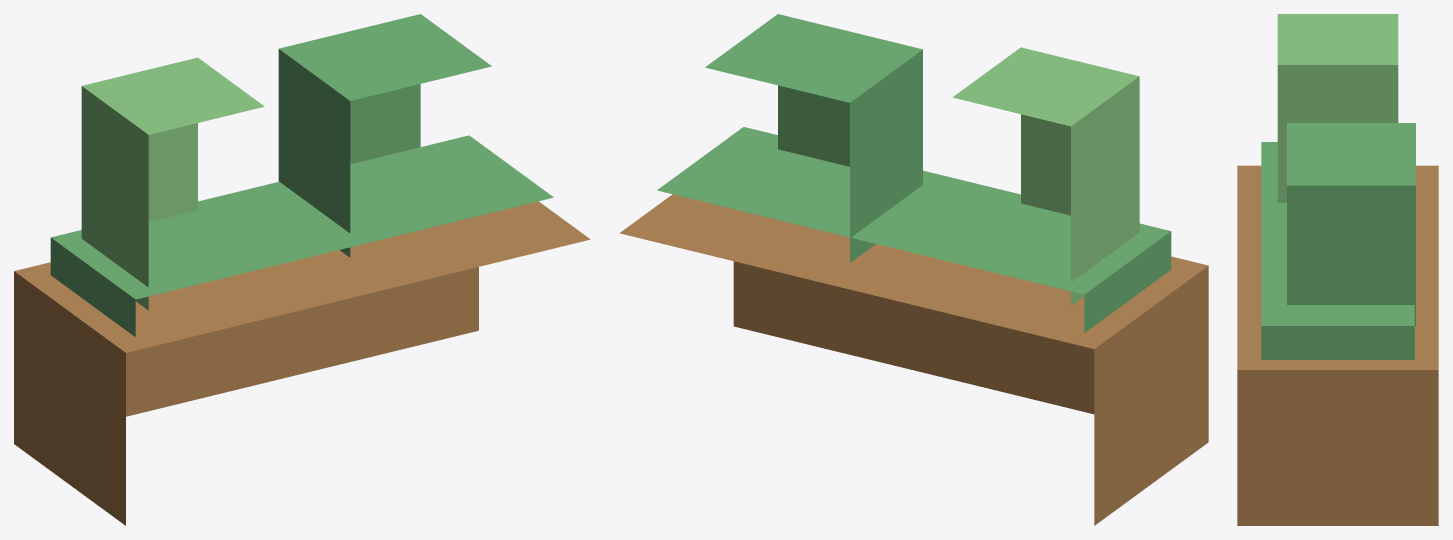
The model's file is planter-box.glb.
3 views of the same model, side by side, from view 1: azimuth 30°, elevation 25°; view 2: azimuth 150°, elevation 25°; view 3: azimuth 270°, elevation 25° (orthographic). The views are drawn at different scales.
Size of the model in its own units: 1.8 by 1.35 by 0.75.
